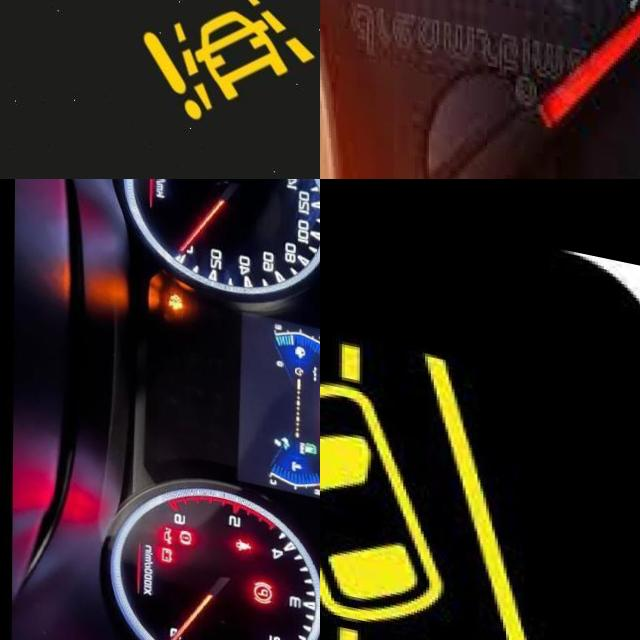Seat Belt: (235, 524, 253, 540)
